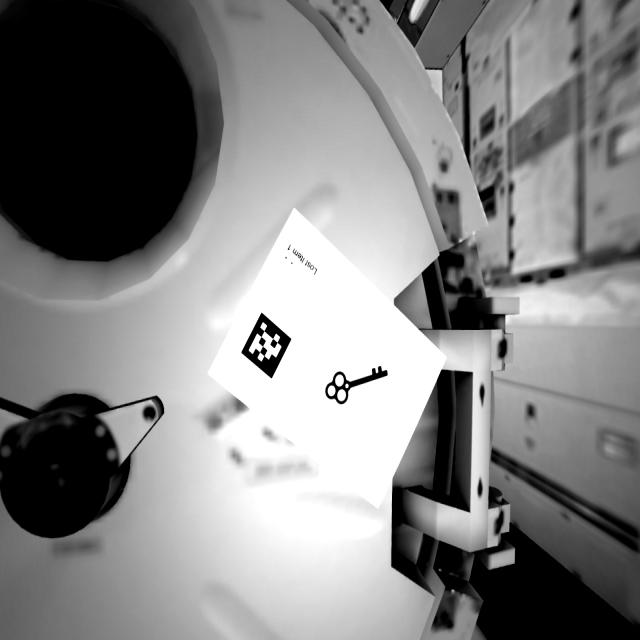key: (328, 348, 392, 411)
